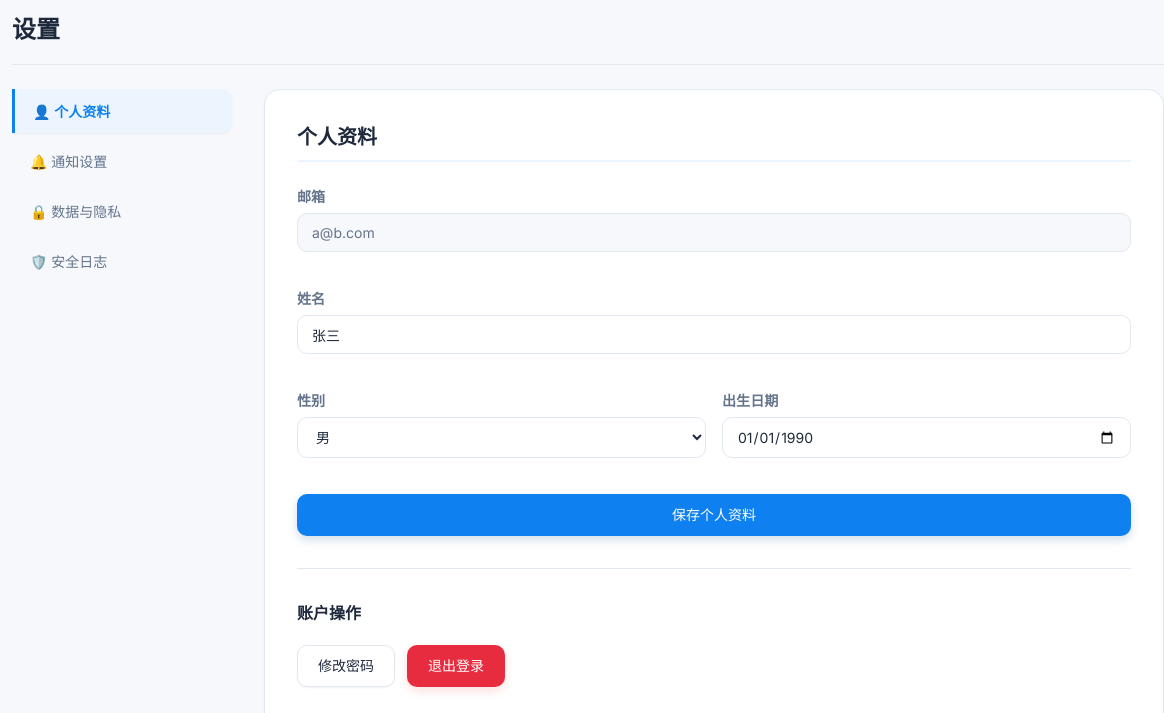
Test: Settings › 个人资料 › 保存失败时显示错误 toast
This screenshot has width=1164, height=713.
Click the button "保存个人资料" at point(714, 515), box [297, 494, 1131, 536]
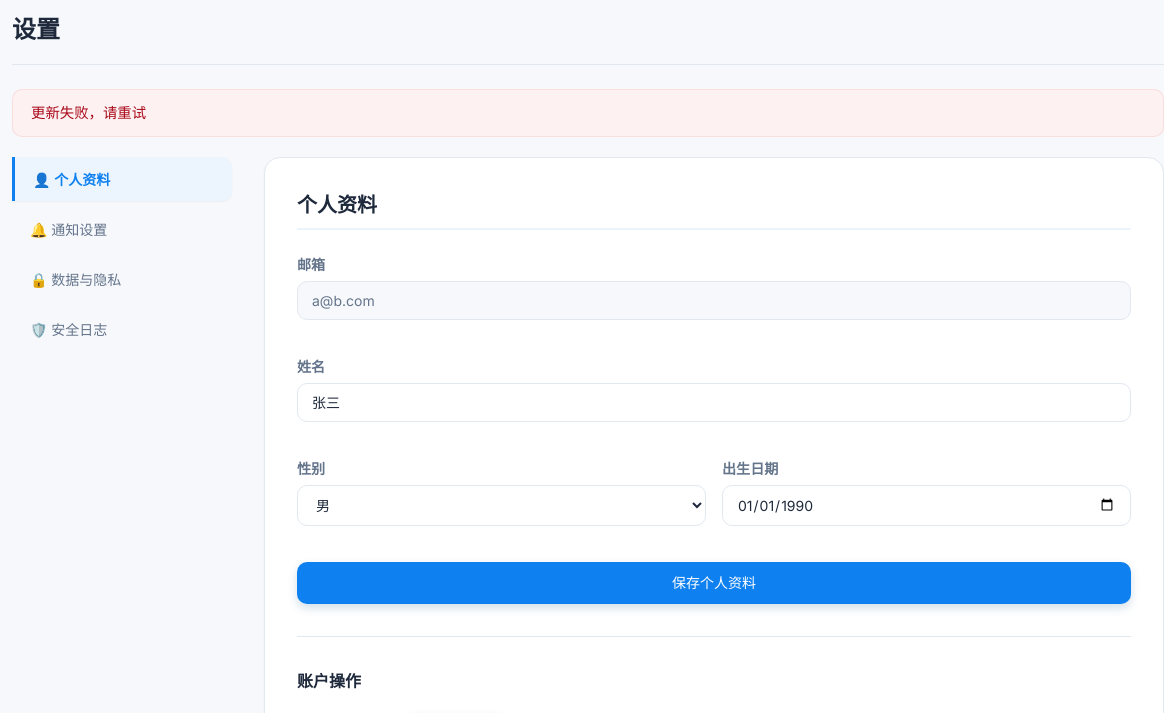
Now the text "更新失败，请重试" is shown, box [12, 89, 1163, 137]
